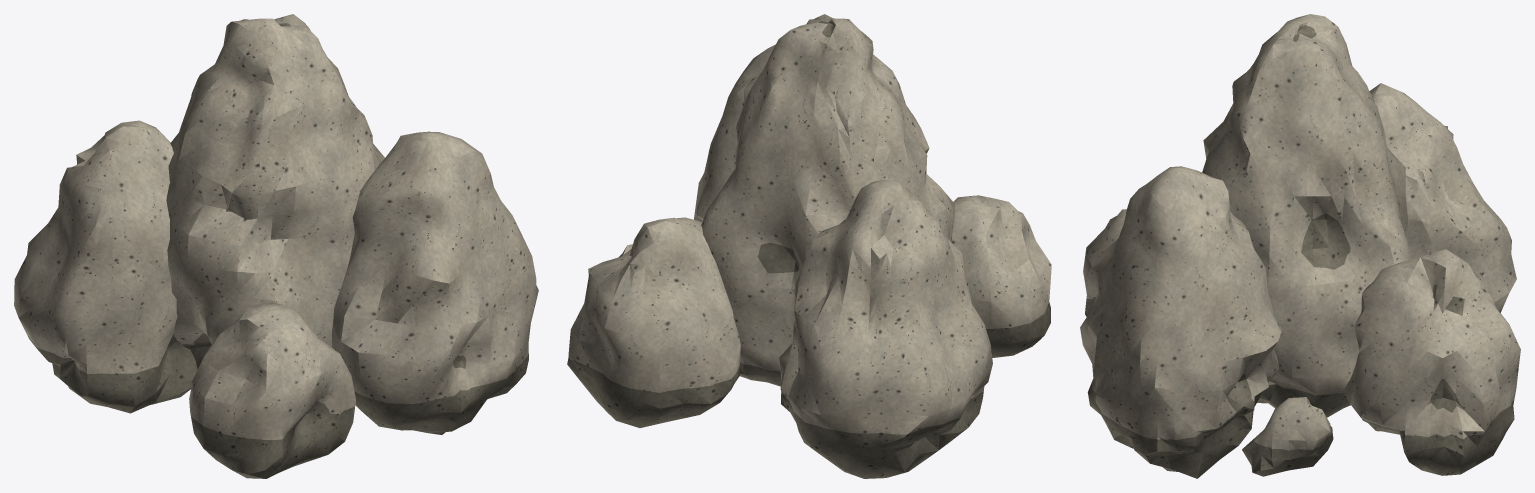
3 renders of one model, left to right at view 1: azimuth 30°, elevation 25°; view 2: azimuth 150°, elevation 25°; view 3: azimuth 270°, elevation 25°, orthographic. The views are drawn at different scales.
Visible parts, largest first — view 1: rock, rock_wet; view 2: rock, rock_wet; view 3: rock, rock_wet.
Boxes of the visible parts, <box> form: rock: <box>14,14,538,439</box>; rock_wet: <box>27,23,528,478</box>; rock: <box>568,14,1051,434</box>; rock_wet: <box>567,21,1050,478</box>; rock: <box>1080,14,1520,450</box>; rock_wet: <box>1085,25,1514,478</box>.
Size of the model in its own units: 6.19 by 5.73 by 5.78.
Materials: 2 (2 with a texture image).
